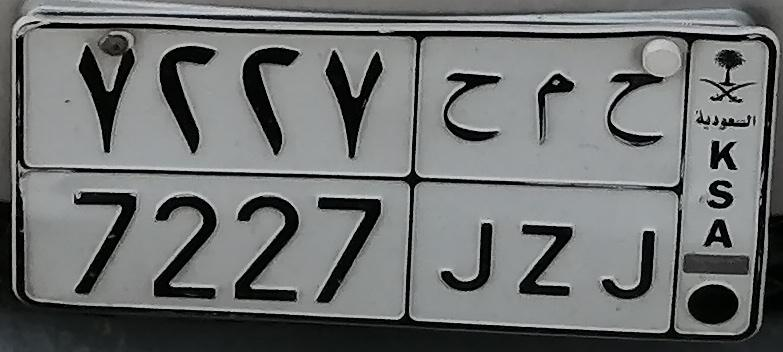2: (146, 39, 226, 304), (232, 40, 306, 308)
7: (308, 47, 391, 305), (63, 41, 142, 302)
J: (596, 68, 675, 301), (432, 66, 504, 301)
Z: (512, 67, 586, 300)
